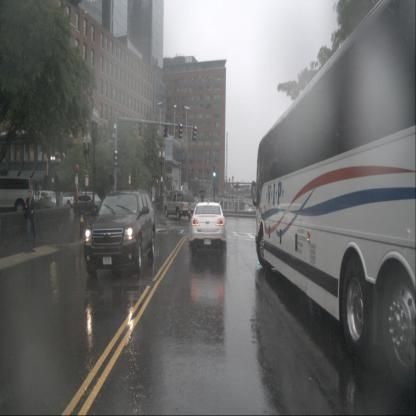human-pedestrian-adult: (24, 189, 36, 252), (198, 189, 206, 215)
vehicle-bus-rigid: (256, 0, 415, 382)
vehicle-car: (84, 192, 155, 278), (188, 202, 227, 255), (0, 176, 33, 214), (73, 194, 104, 216), (36, 190, 63, 210), (60, 192, 76, 207)
vehicle-truck: (165, 193, 196, 220)
